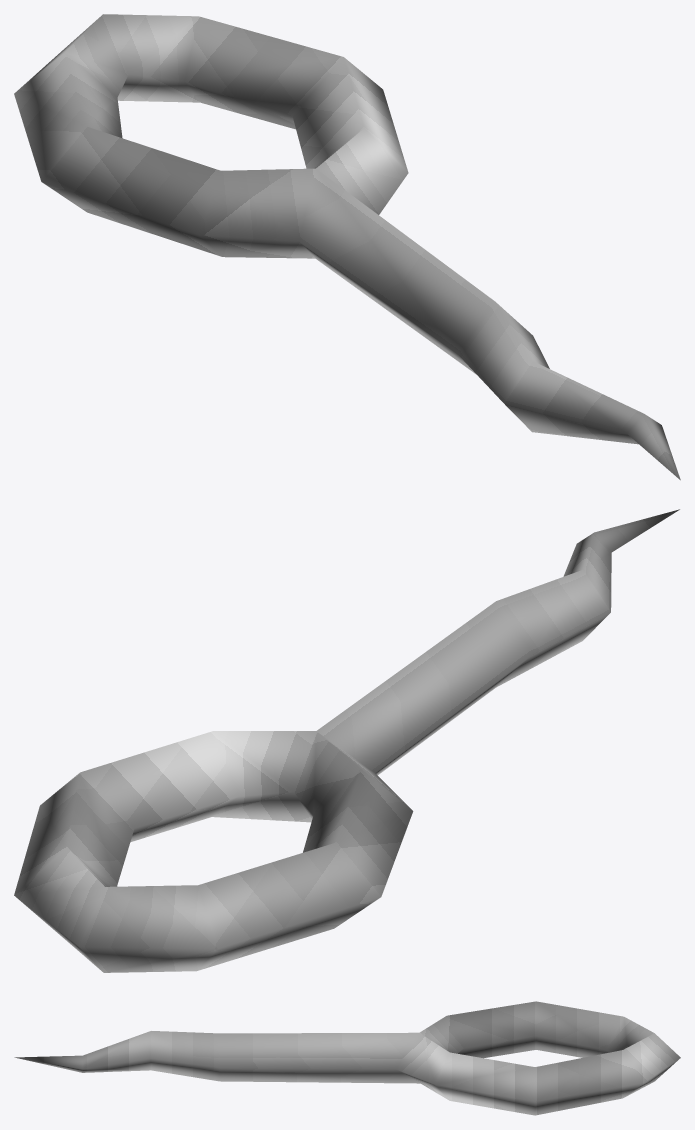
Rendered from lockpick.obj.
3 views of the same model, one above another, from view 1: azimuth 30°, elevation 25°; view 2: azimuth 150°, elevation 25°; view 3: azimuth 270°, elevation 25° (orthographic). The views are drawn at different scales.
Visible parts, largest first — view 1: Duplicate03; view 2: Duplicate03; view 3: Duplicate03.
Part boxes in pixels (<box>): Duplicate03: <box>14,14,680,480</box>; Duplicate03: <box>14,509,679,972</box>; Duplicate03: <box>14,1001,680,1115</box>.
Size of the model in its own units: 4.21 by 1.1 by 12.82.
